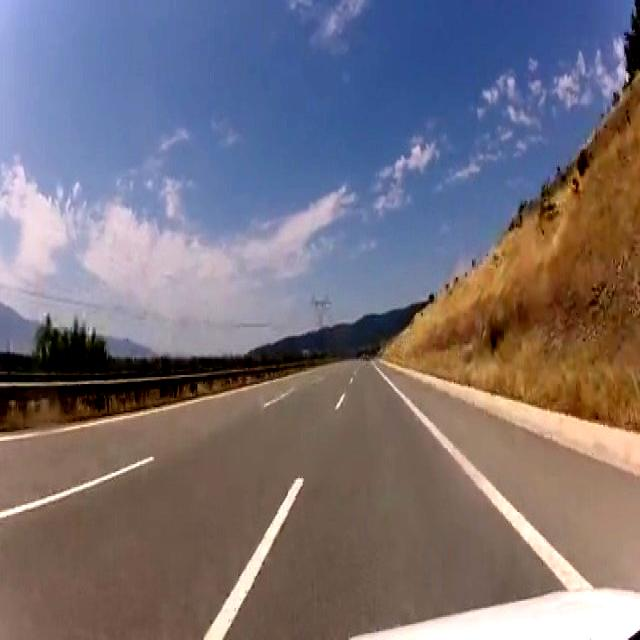lane: (374, 366, 592, 590), (204, 478, 303, 638), (0, 459, 154, 519)
road: (0, 361, 562, 636), (384, 368, 639, 590)
